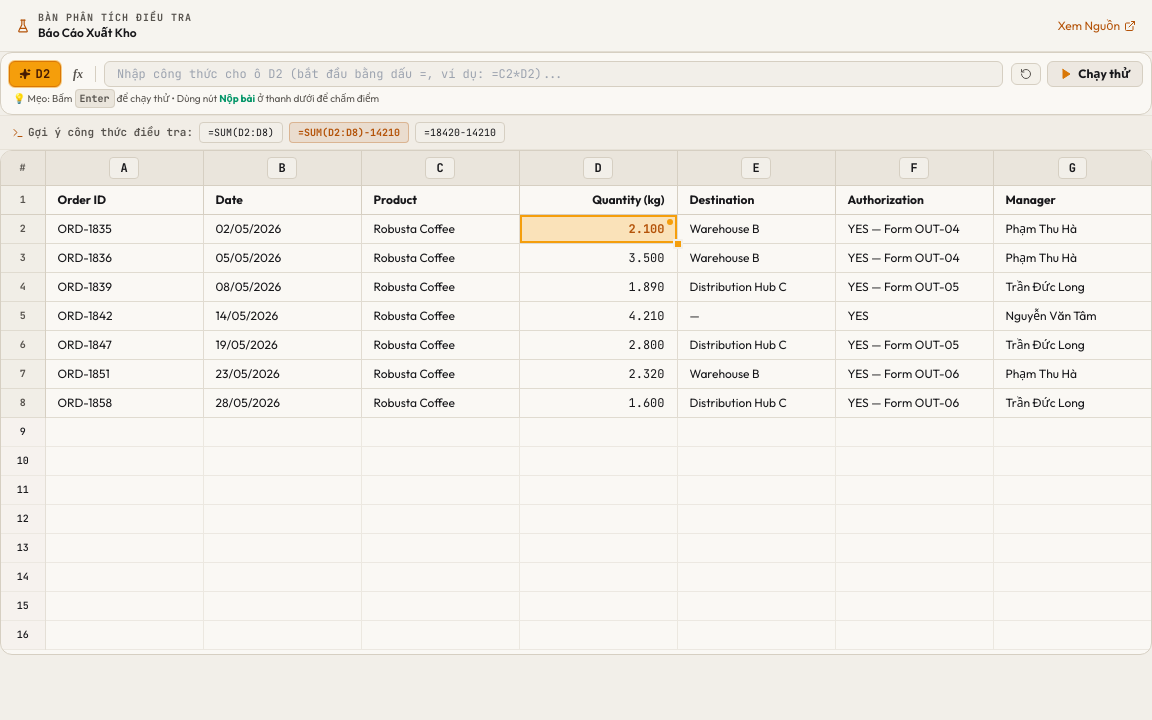
Test: InvestigationWorkbench Component Tests › 2. Nhấp vào Quick Formula chip =SUM(D2:D8)-14210 tính ra kết quả 4210 và hiển thị kết quả điều tra
What coordinates should you click on to do the following:
click the button "=SUM(D2:D8)-14210"
I would click on:
 (349, 132)
Its box is [289,122,409,143].
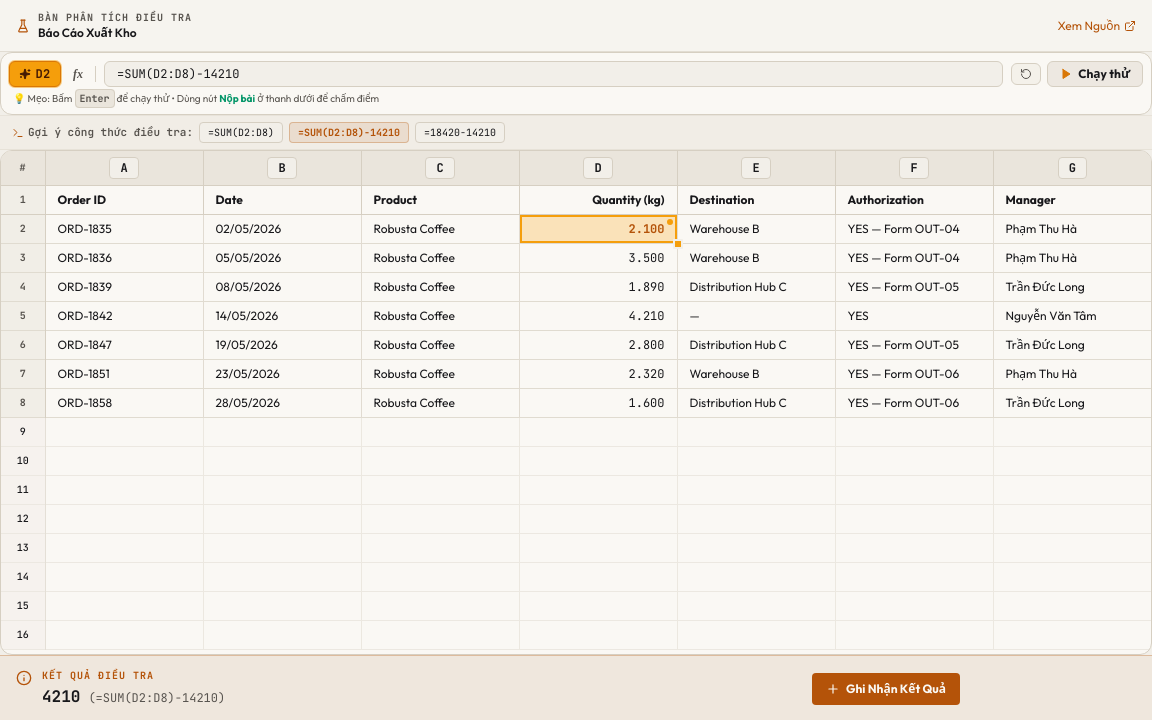
Expected: the text "Kết Quả Điều Tra" is shown, [42,669,154,682]
Expected: the button "Ghi Nhận Kết Quả" is shown, [812,672,960,704]
